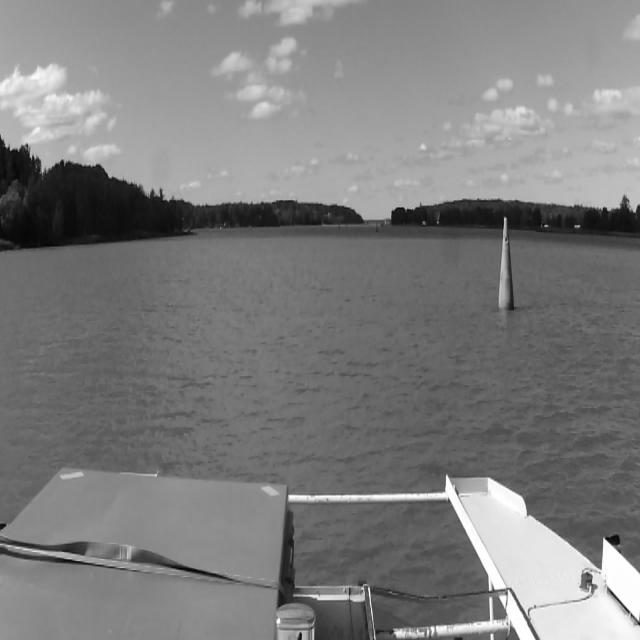buoy: (494, 216, 516, 314)
